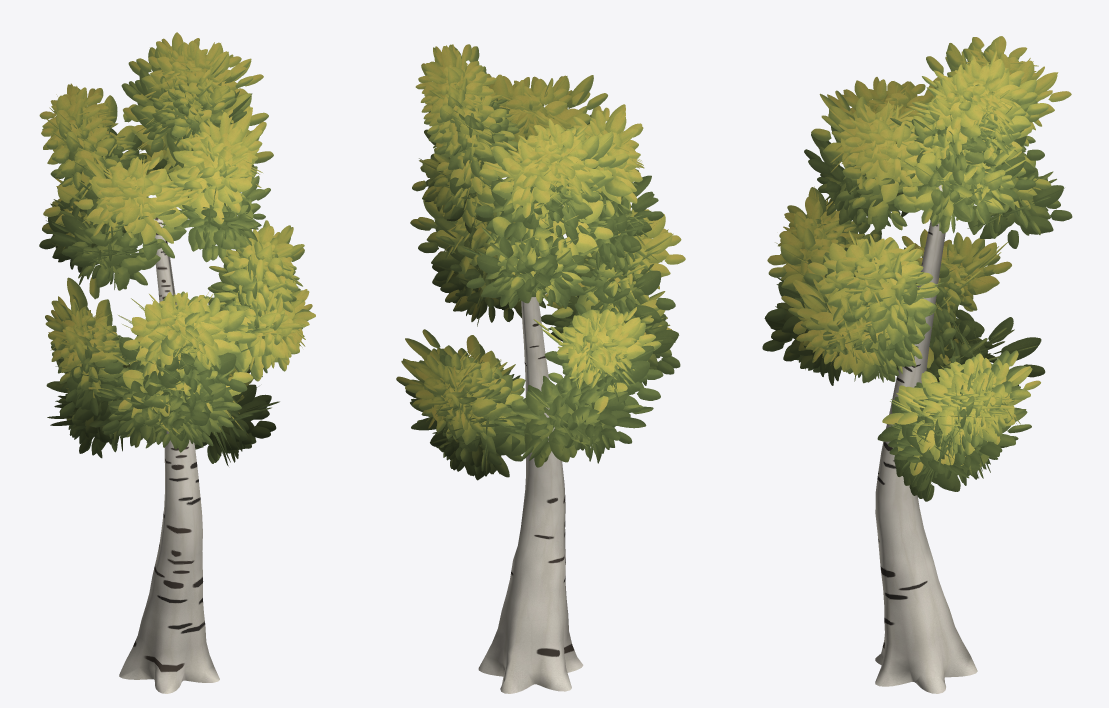
File: tree_birch.glb
The picture shows the model from 3 angles, left to right: view 1: azimuth 30°, elevation 25°; view 2: azimuth 150°, elevation 25°; view 3: azimuth 270°, elevation 25°; orthographic projection. The views are drawn at different scales.
Parts seen in each view (by area): view 1: Canopy, tree_birch; view 2: Canopy, tree_birch; view 3: Canopy, tree_birch.
Boxes of the visible parts, left/top/right/bottom form: Canopy: left=39, top=32, right=315, bottom=466; tree_birch: left=119, top=218, right=219, bottom=693; Canopy: left=396, top=44, right=685, bottom=480; tree_birch: left=478, top=239, right=583, bottom=693; Canopy: left=762, top=36, right=1072, bottom=501; tree_birch: left=875, top=185, right=977, bottom=693.
Size of the model in its own units: 1.08 by 2.3 by 1.12.
2 materials, 2 textured.
